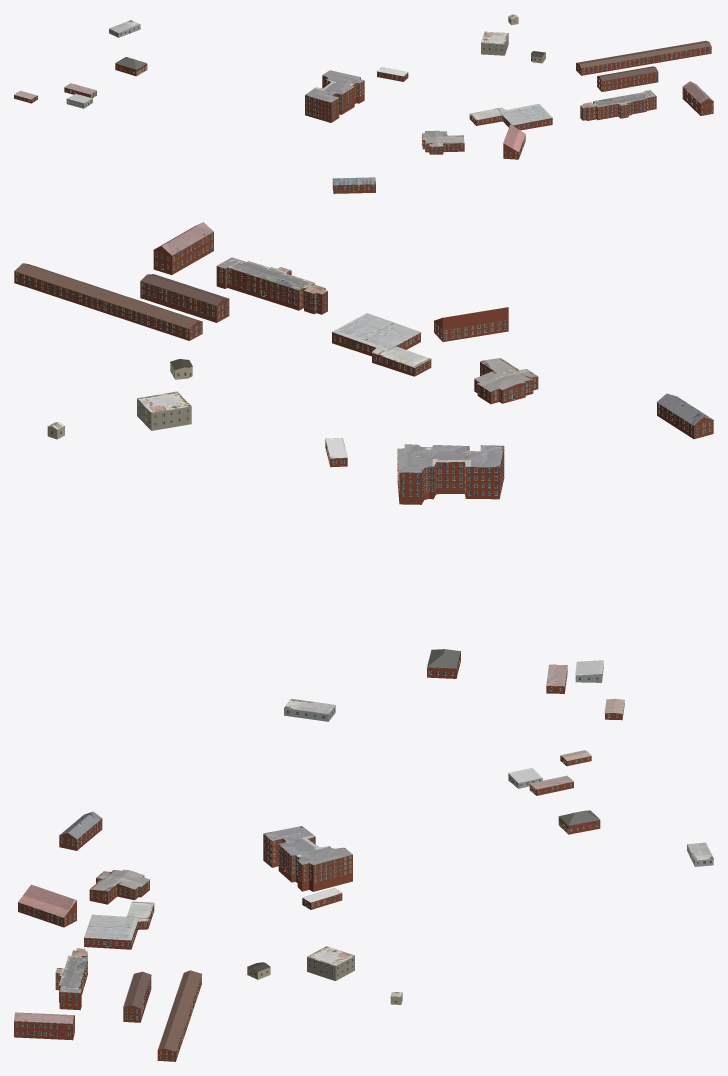
The picture shows the model from 3 angles, top to bottom: view 1: azimuth 30°, elevation 25°; view 2: azimuth 150°, elevation 25°; view 3: azimuth 270°, elevation 25°; orthographic projection. The views are drawn at different scales.
Visible parts, largest first — view 1: -5_-1_188826782_0, -5_-1_271952806_6, -5_-1_-7381159801_17, -5_-1_309458702_10; view 2: -5_-1_188826782_0, -5_-1_271952806_6, -5_-1_-7381159801_17; view 3: -5_-1_188826782_0, -5_-1_271952806_6, -5_-1_-7381159801_17.
Boxes of the visible parts, <box> form: -5_-1_188826782_0: <box>14,14,713,193</box>; -5_-1_271952806_6: <box>115,40,711,81</box>; -5_-1_-7381159801_17: <box>481,34,508,55</box>; -5_-1_309458702_10: <box>66,25,140,108</box>; -5_-1_188826782_0: <box>14,222,713,720</box>; -5_-1_271952806_6: <box>14,263,460,668</box>; -5_-1_-7381159801_17: <box>137,399,191,430</box>; -5_-1_188826782_0: <box>14,750,713,1061</box>; -5_-1_271952806_6: <box>123,810,599,1051</box>; -5_-1_-7381159801_17: <box>307,956,354,980</box>.
Size of the model in its own units: 529 by 41.01 by 449.
Materials: 15 (1 with a texture image).
